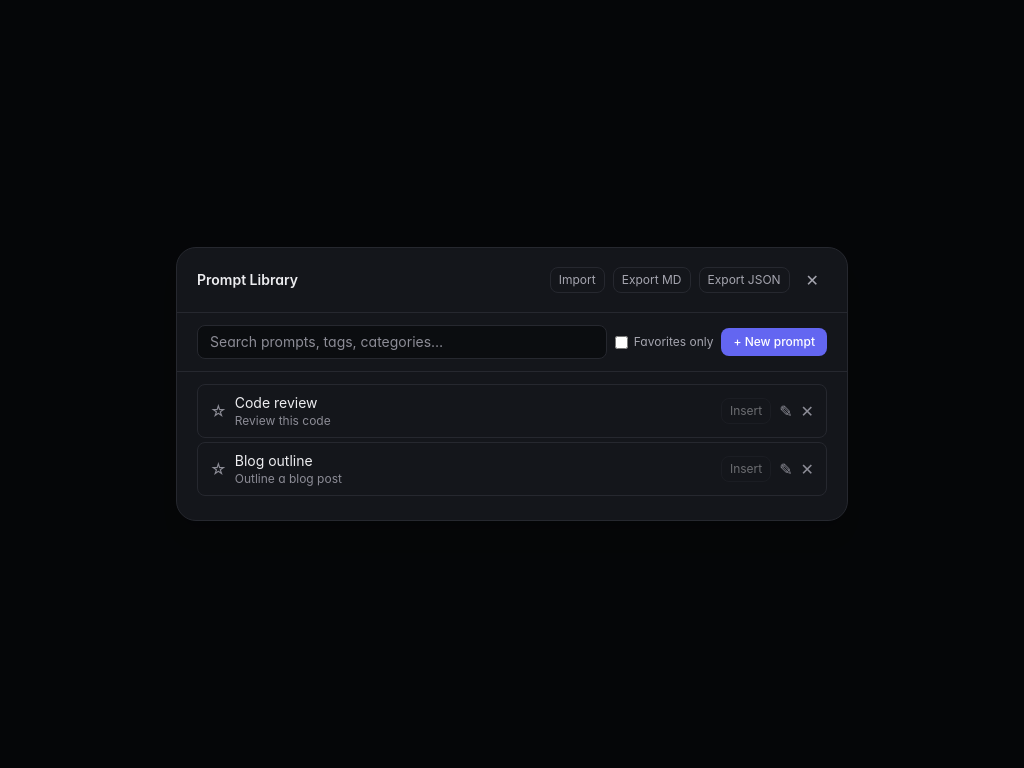
Test case: PromptLibraryModal › search filters the visible prompt list
Type "blog" into the field with placeholder "Search prompts, tags, categories…" at x=402, y=342, box [197,325,607,359]
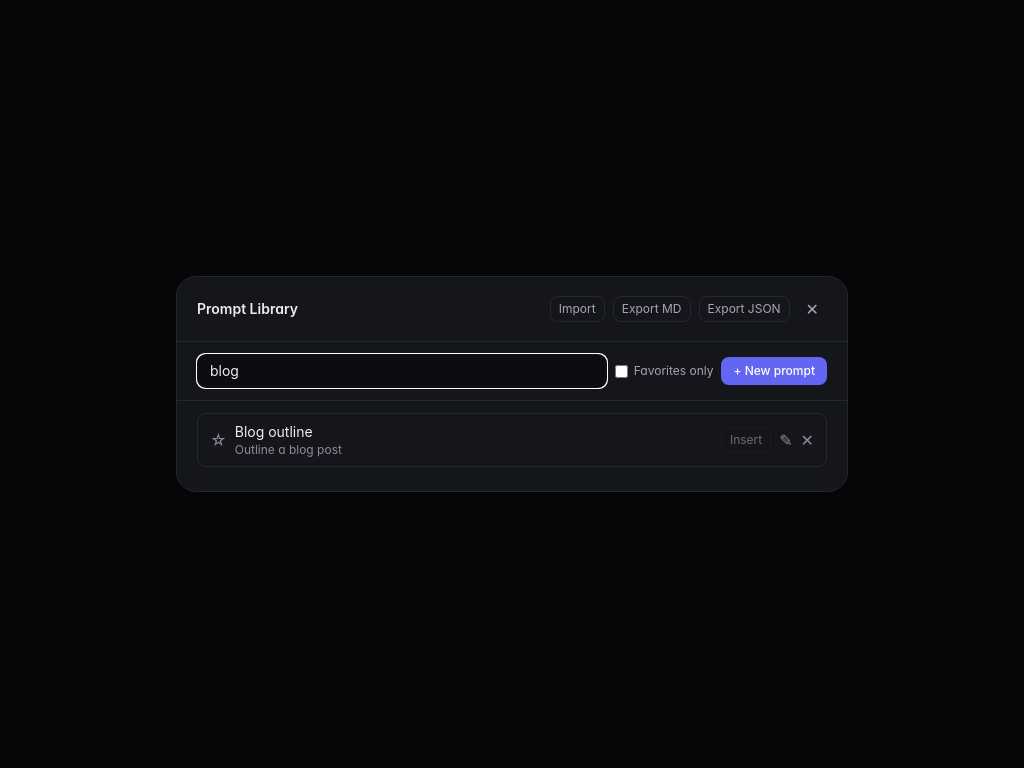
Expected: the text "Blog outline" is shown, [235,422,313,442]
Expected: the text "Code review" is gone
